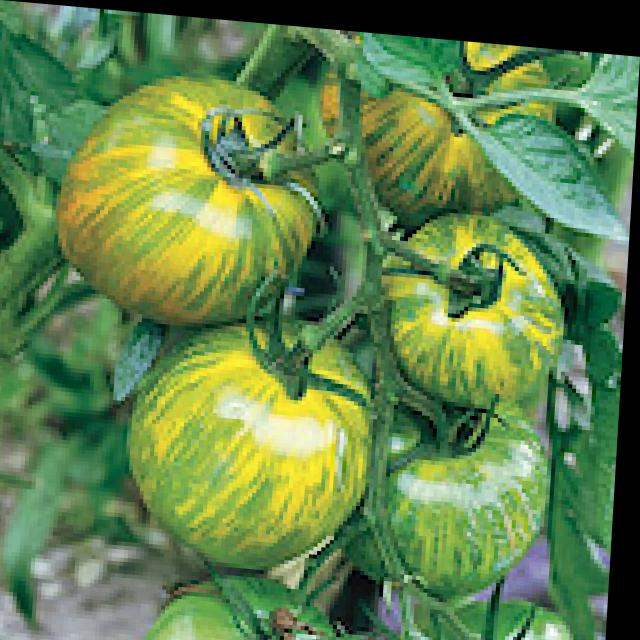yesil: (51, 44, 589, 616)
